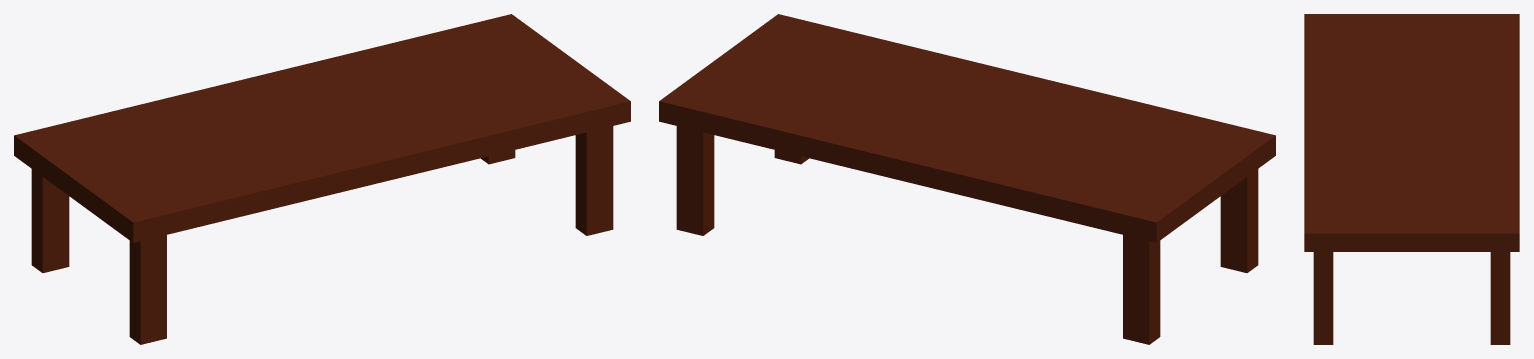
File: Bench.fbx
3 views of the same model, side by side, from view 1: azimuth 30°, elevation 25°; view 2: azimuth 150°, elevation 25°; view 3: azimuth 270°, elevation 25° (orthographic). The views are drawn at different scales.
Parts seen in each view (by area): view 1: Cube; view 2: Cube; view 3: Cube.
Part boxes in pixels (bbox=[...]): Cube: bbox=[14, 14, 630, 344]; Cube: bbox=[659, 14, 1275, 344]; Cube: bbox=[1304, 14, 1519, 344].
Bounding box in the file's own units: 473 × 117 × 196.
